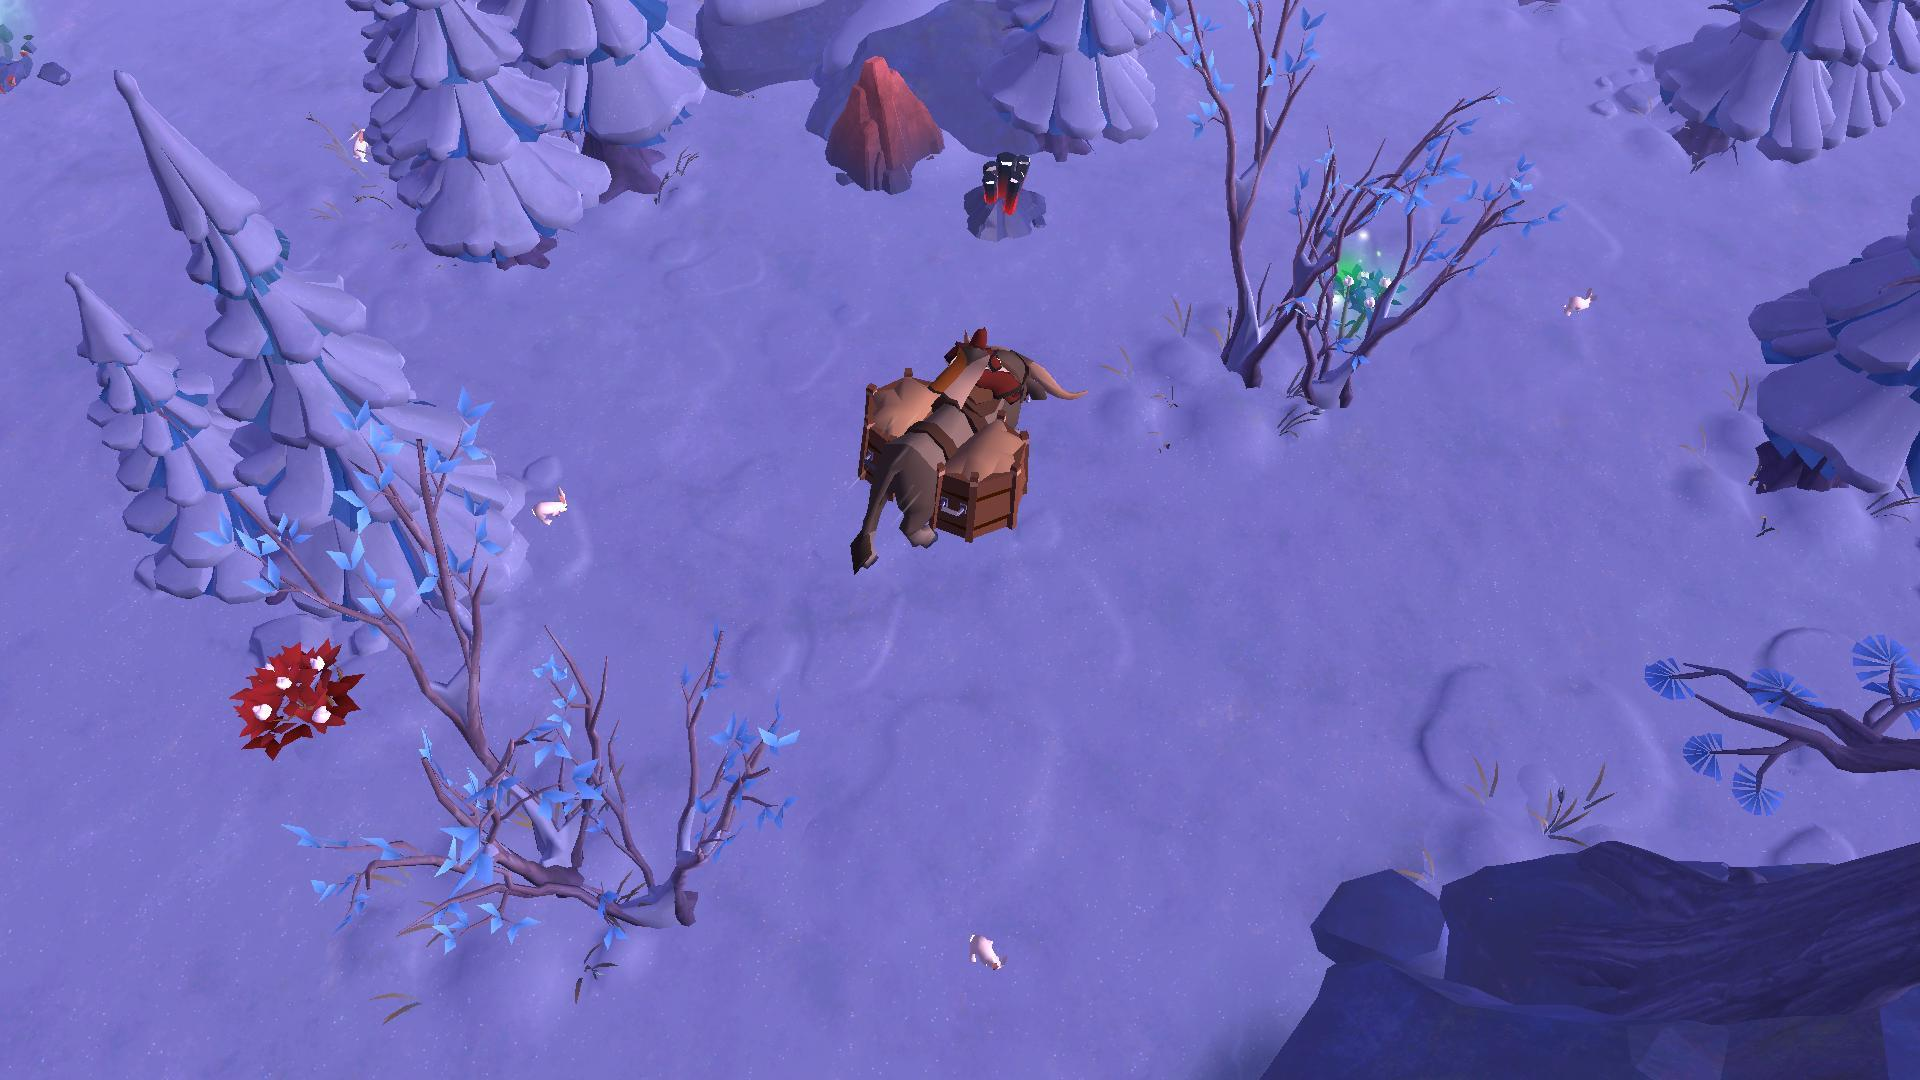fiber_t4: (1321, 257, 1399, 336)
fiber_t5: (229, 634, 365, 757)
ore_t5: (973, 152, 1034, 207)
rock_t5: (815, 51, 944, 187)
